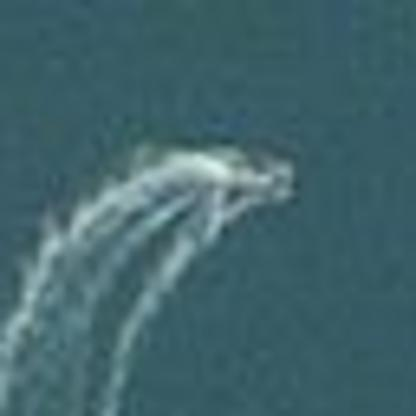ship: (188, 130, 300, 213)
